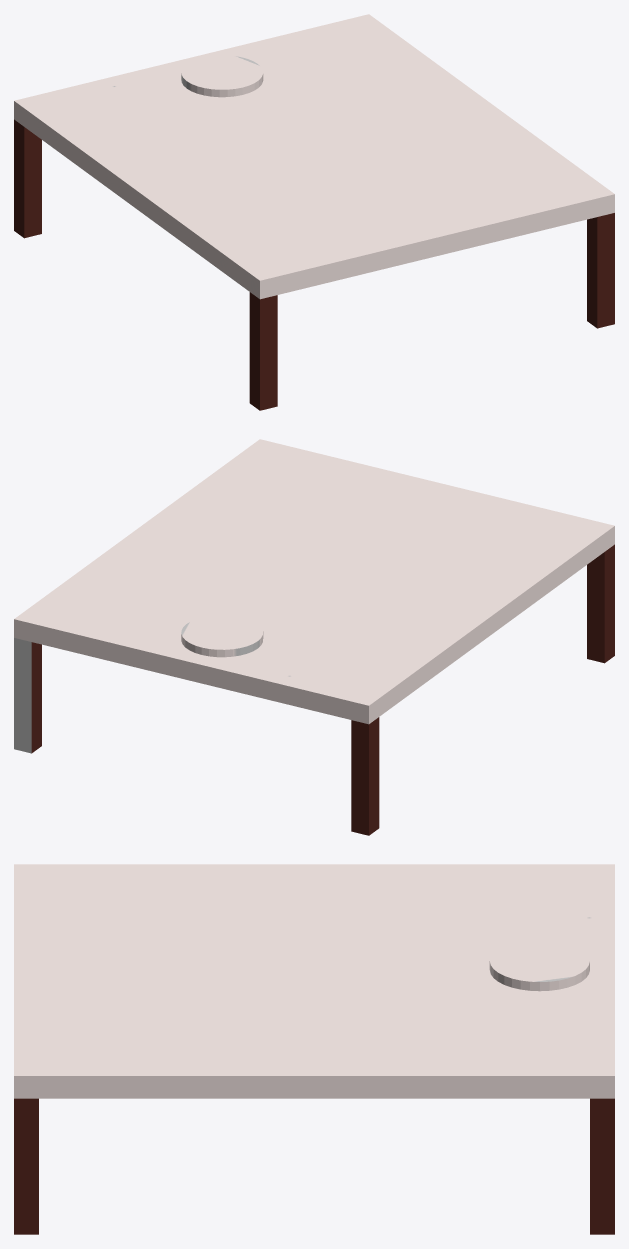
The model's file is table.obj.
The picture shows the model from 3 angles, top to bottom: view 1: azimuth 30°, elevation 25°; view 2: azimuth 150°, elevation 25°; view 3: azimuth 270°, elevation 25°; orthographic projection. The views are drawn at different scales.
Parts seen in each view (by area): view 1: Cylinder; view 2: Cylinder; view 3: Cylinder.
Part boxes in pixels (box(x1,y1,x2,y2)): Cylinder: box(14, 14, 614, 410); Cylinder: box(14, 439, 614, 835); Cylinder: box(14, 864, 614, 1234).
Bounding box in the file's own units: 1 × 0.37 × 1.2.
1 material, 1 textured.
